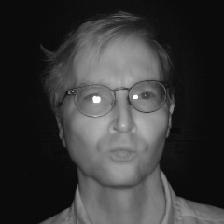sad: (27, 11, 187, 199)
